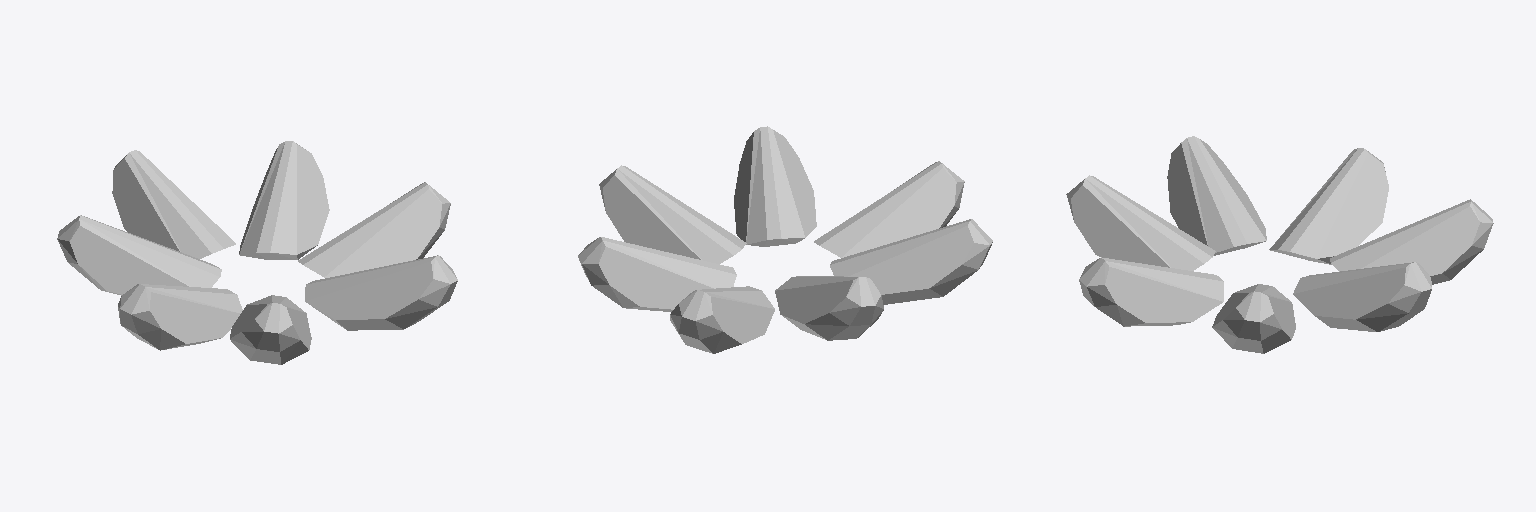
File: garlic_chop_1.obj
The picture shows the model from 3 angles: view 1: azimuth 30°, elevation 25°; view 2: azimuth 150°, elevation 25°; view 3: azimuth 270°, elevation 25°; orthographic projection.
Visible parts, largest first — view 1: chop_1 Garlic3 Garlic2 polySurface5, chop_1 Garlic3 Garlic2 polySurface7, chop_1 Garlic3 Garlic2 polySurface2, chop_1 Garlic3 Garlic2 polySurface6, chop_1 Garlic3 Garlic2 polySurface8, chop_1 Garlic3 Garlic2 polySurface3, polySurface4 chop_1 Garlic3 Garlic2; view 2: chop_1 Garlic3 Garlic2 polySurface3, chop_1 Garlic3 Garlic2 polySurface5, chop_1 Garlic3 Garlic2 polySurface7, chop_1 Garlic3 Garlic2 polySurface6, polySurface4 chop_1 Garlic3 Garlic2, chop_1 Garlic3 Garlic2 polySurface2, chop_1 Garlic3 Garlic2 polySurface8; view 3: chop_1 Garlic3 Garlic2 polySurface2, chop_1 Garlic3 Garlic2 polySurface5, chop_1 Garlic3 Garlic2 polySurface3, polySurface4 chop_1 Garlic3 Garlic2, chop_1 Garlic3 Garlic2 polySurface7, chop_1 Garlic3 Garlic2 polySurface8, chop_1 Garlic3 Garlic2 polySurface6.
Boxes of the visible parts, <box> form: chop_1 Garlic3 Garlic2 polySurface5: <box>305,255,457,330</box>; chop_1 Garlic3 Garlic2 polySurface7: <box>239,141,329,259</box>; chop_1 Garlic3 Garlic2 polySurface2: <box>57,215,221,295</box>; chop_1 Garlic3 Garlic2 polySurface6: <box>298,182,450,277</box>; chop_1 Garlic3 Garlic2 polySurface8: <box>112,150,235,258</box>; chop_1 Garlic3 Garlic2 polySurface3: <box>118,284,242,350</box>; polySurface4 chop_1 Garlic3 Garlic2: <box>230,295,311,364</box>; chop_1 Garlic3 Garlic2 polySurface3: <box>830,219,992,304</box>; chop_1 Garlic3 Garlic2 polySurface5: <box>734,126,816,246</box>; chop_1 Garlic3 Garlic2 polySurface7: <box>578,237,736,311</box>; chop_1 Garlic3 Garlic2 polySurface6: <box>599,165,746,263</box>; polySurface4 chop_1 Garlic3 Garlic2: <box>814,161,964,257</box>; chop_1 Garlic3 Garlic2 polySurface2: <box>775,276,883,340</box>; chop_1 Garlic3 Garlic2 polySurface8: <box>670,286,774,353</box>; chop_1 Garlic3 Garlic2 polySurface2: <box>1269,148,1388,264</box>; chop_1 Garlic3 Garlic2 polySurface5: <box>1079,257,1223,326</box>; chop_1 Garlic3 Garlic2 polySurface3: <box>1167,136,1266,255</box>; polySurface4 chop_1 Garlic3 Garlic2: <box>1066,175,1215,270</box>; chop_1 Garlic3 Garlic2 polySurface7: <box>1293,262,1431,331</box>; chop_1 Garlic3 Garlic2 polySurface8: <box>1330,199,1493,284</box>; chop_1 Garlic3 Garlic2 polySurface6: <box>1212,284,1295,353</box>.
Size of the model in its own units: 0.4319 by 0.0976 by 0.4461.